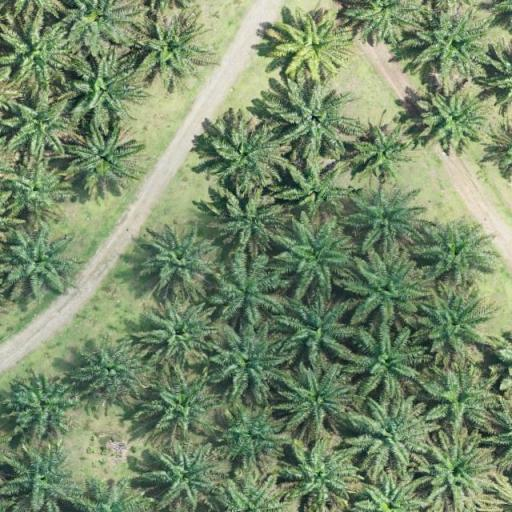Ganoderma: (282, 20, 342, 72)
